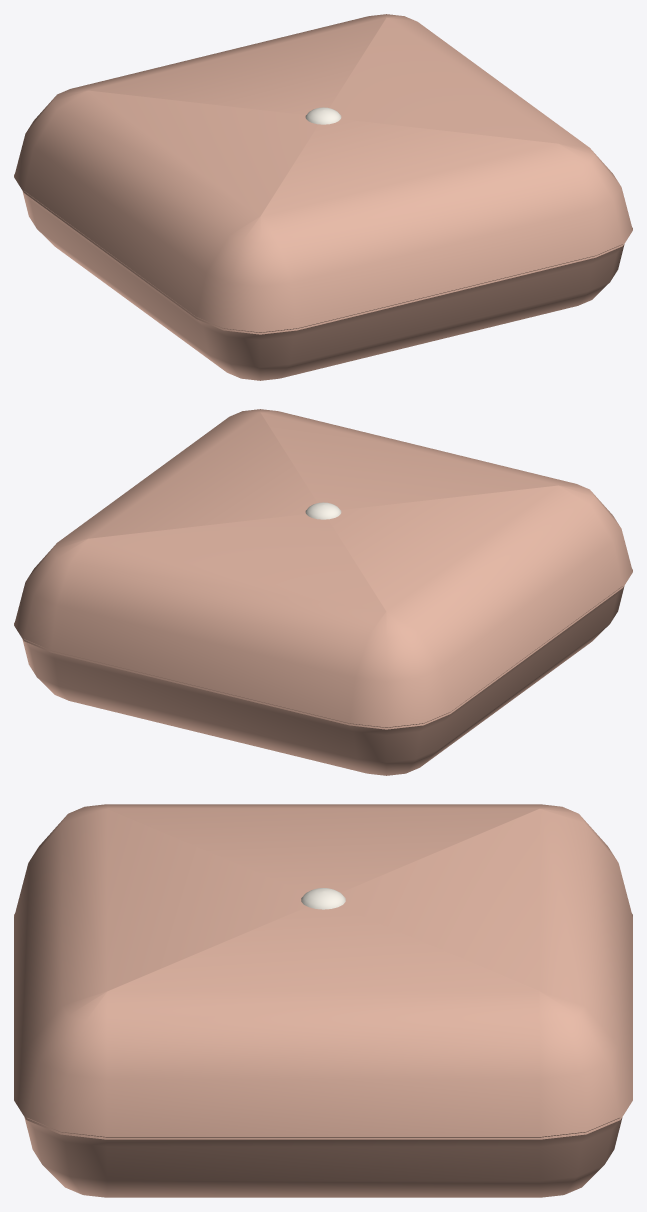
File: jelly-friends-playroom-floor-cushion-square-clay-3f01aa54__27634.glb
The picture shows the model from 3 angles, top to bottom: view 1: azimuth 30°, elevation 25°; view 2: azimuth 150°, elevation 25°; view 3: azimuth 270°, elevation 25°; orthographic projection. The views are drawn at different scales.
Parts seen in each view (by area): view 1: floor-cushion-square-clay; view 2: floor-cushion-square-clay; view 3: floor-cushion-square-clay.
Part boxes in pixels (x1,y1,x2,y2): floor-cushion-square-clay: (14, 14, 632, 380); floor-cushion-square-clay: (14, 409, 632, 775); floor-cushion-square-clay: (14, 804, 632, 1197).
Bounding box in the file's own units: 0.515 × 0.188 × 0.515.
